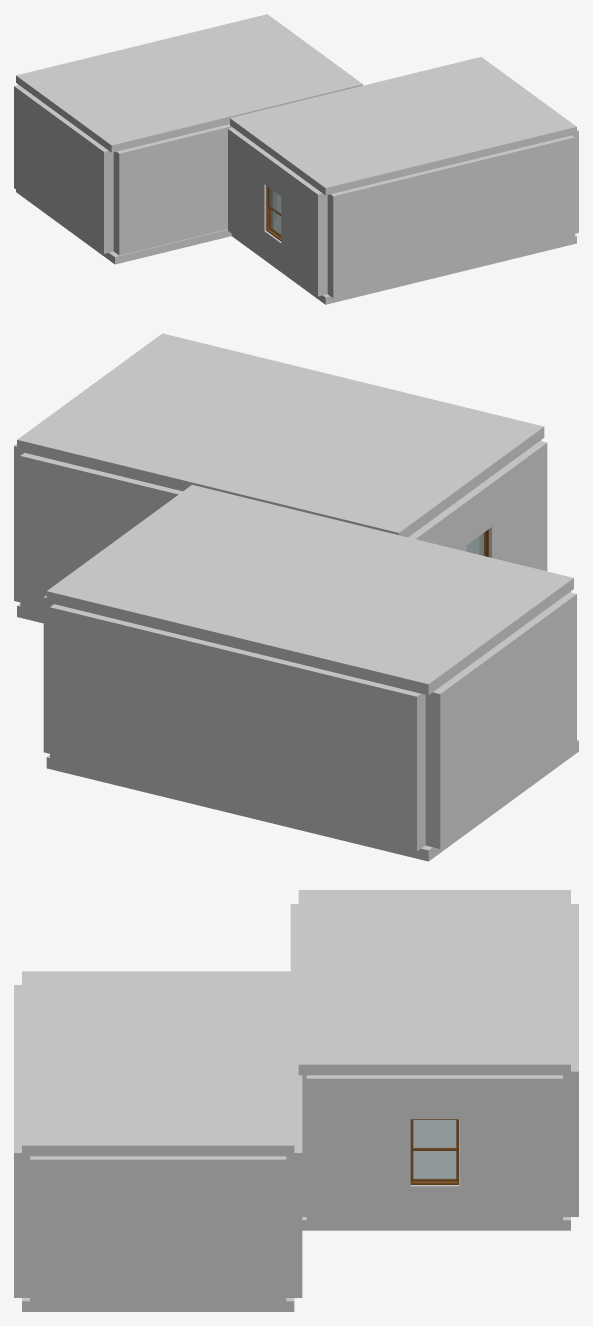
Rendered from room_template 1.fbx.
3 views of the same model, one above another, from view 1: azimuth 30°, elevation 25°; view 2: azimuth 150°, elevation 25°; view 3: azimuth 270°, elevation 25° (orthographic). The views are drawn at different scales.
Parts seen in each view (by area): view 1: Plane.001, Cube.003, Plane.003, Cube.028, Cube.032, Cube.001, Plane.002, Plane.004, window_frame, Cube.004; view 2: Plane.003, Cube.030, Plane.001, Cube.032, Cube.043, Cube.001, Plane.004, Cube.029, Cube.004; view 3: Plane.001, Plane.003, Cube.004, Cube.029, Plane.004, Cube.003, Cube.030, Cube.043, Plane.002, window_frame.002, window_down.001, Cube.031 (+1 smaller).
Part boxes in pixels (box(x1,y1,x2,y2)): Plane.001: box(230, 57, 576, 195); Cube.003: box(327, 135, 574, 298); Plane.003: box(16, 14, 362, 152); Cube.028: box(113, 124, 232, 255); Cube.032: box(14, 85, 113, 253); Cube.001: box(228, 127, 327, 296); Plane.002: box(231, 215, 576, 304); Plane.004: box(16, 190, 280, 264); window_frame: box(266, 186, 281, 241); Cube.004: box(572, 130, 578, 233); Plane.003: box(46, 485, 573, 695); Cube.030: box(50, 604, 425, 851); Plane.001: box(17, 333, 544, 537); Cube.032: box(425, 592, 576, 848); Cube.043: box(20, 452, 182, 616); Cube.001: box(408, 441, 547, 571); Plane.004: box(46, 740, 578, 861); Cube.029: box(43, 595, 53, 753); Cube.004: box(14, 444, 23, 602); Plane.001: box(22, 971, 294, 1156); Plane.003: box(298, 890, 570, 1075); Cube.004: box(30, 1156, 286, 1304); Cube.029: box(306, 1075, 562, 1223); Plane.004: box(302, 1119, 570, 1230); Cube.003: box(14, 985, 29, 1297); Cube.030: box(563, 904, 578, 1216); Cube.043: box(286, 1044, 302, 1297); Plane.002: box(22, 1298, 294, 1311); window_frame.002: box(410, 1119, 458, 1184); window_down.001: box(412, 1150, 457, 1181); Cube.031: box(294, 1044, 306, 1216).
Size of the model in its own units: 9.69 by 2.86 by 8.82.
